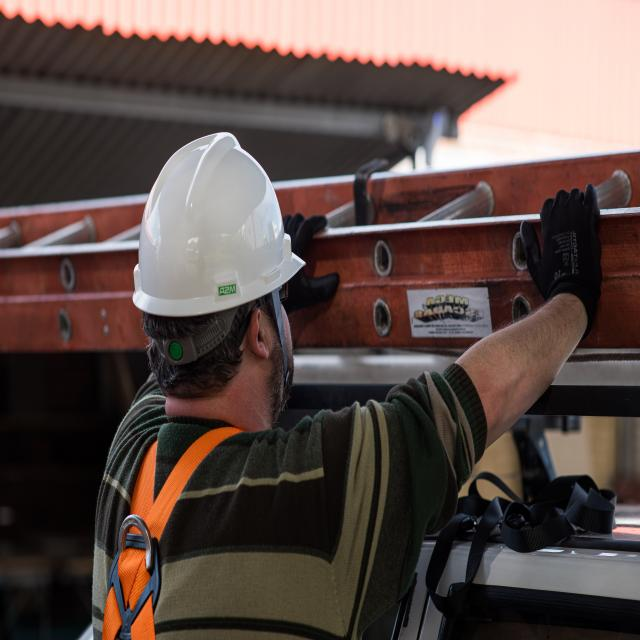capacete: (126, 124, 313, 320)
luva: (519, 175, 606, 332), (275, 207, 341, 322)
